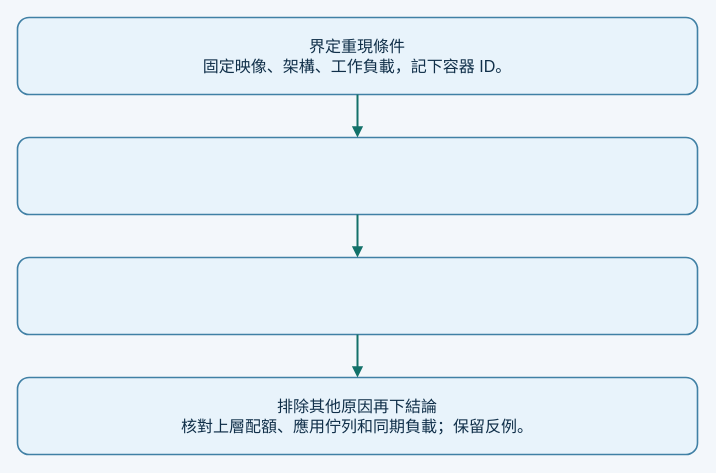
Some shapes in this 716 by 473 pixel diagram are drawn without their labels. The centre of each missing label's shape, as x and y in pixels:
只改一項配置 逐輪記錄 cgroup 前後差值、請求錯誤、p99 與退出狀態。: (357,295)
在程序所在群組採樣 用 cgroup.procs 核對 PID；沒有權限就記為無資料。: (357,175)
